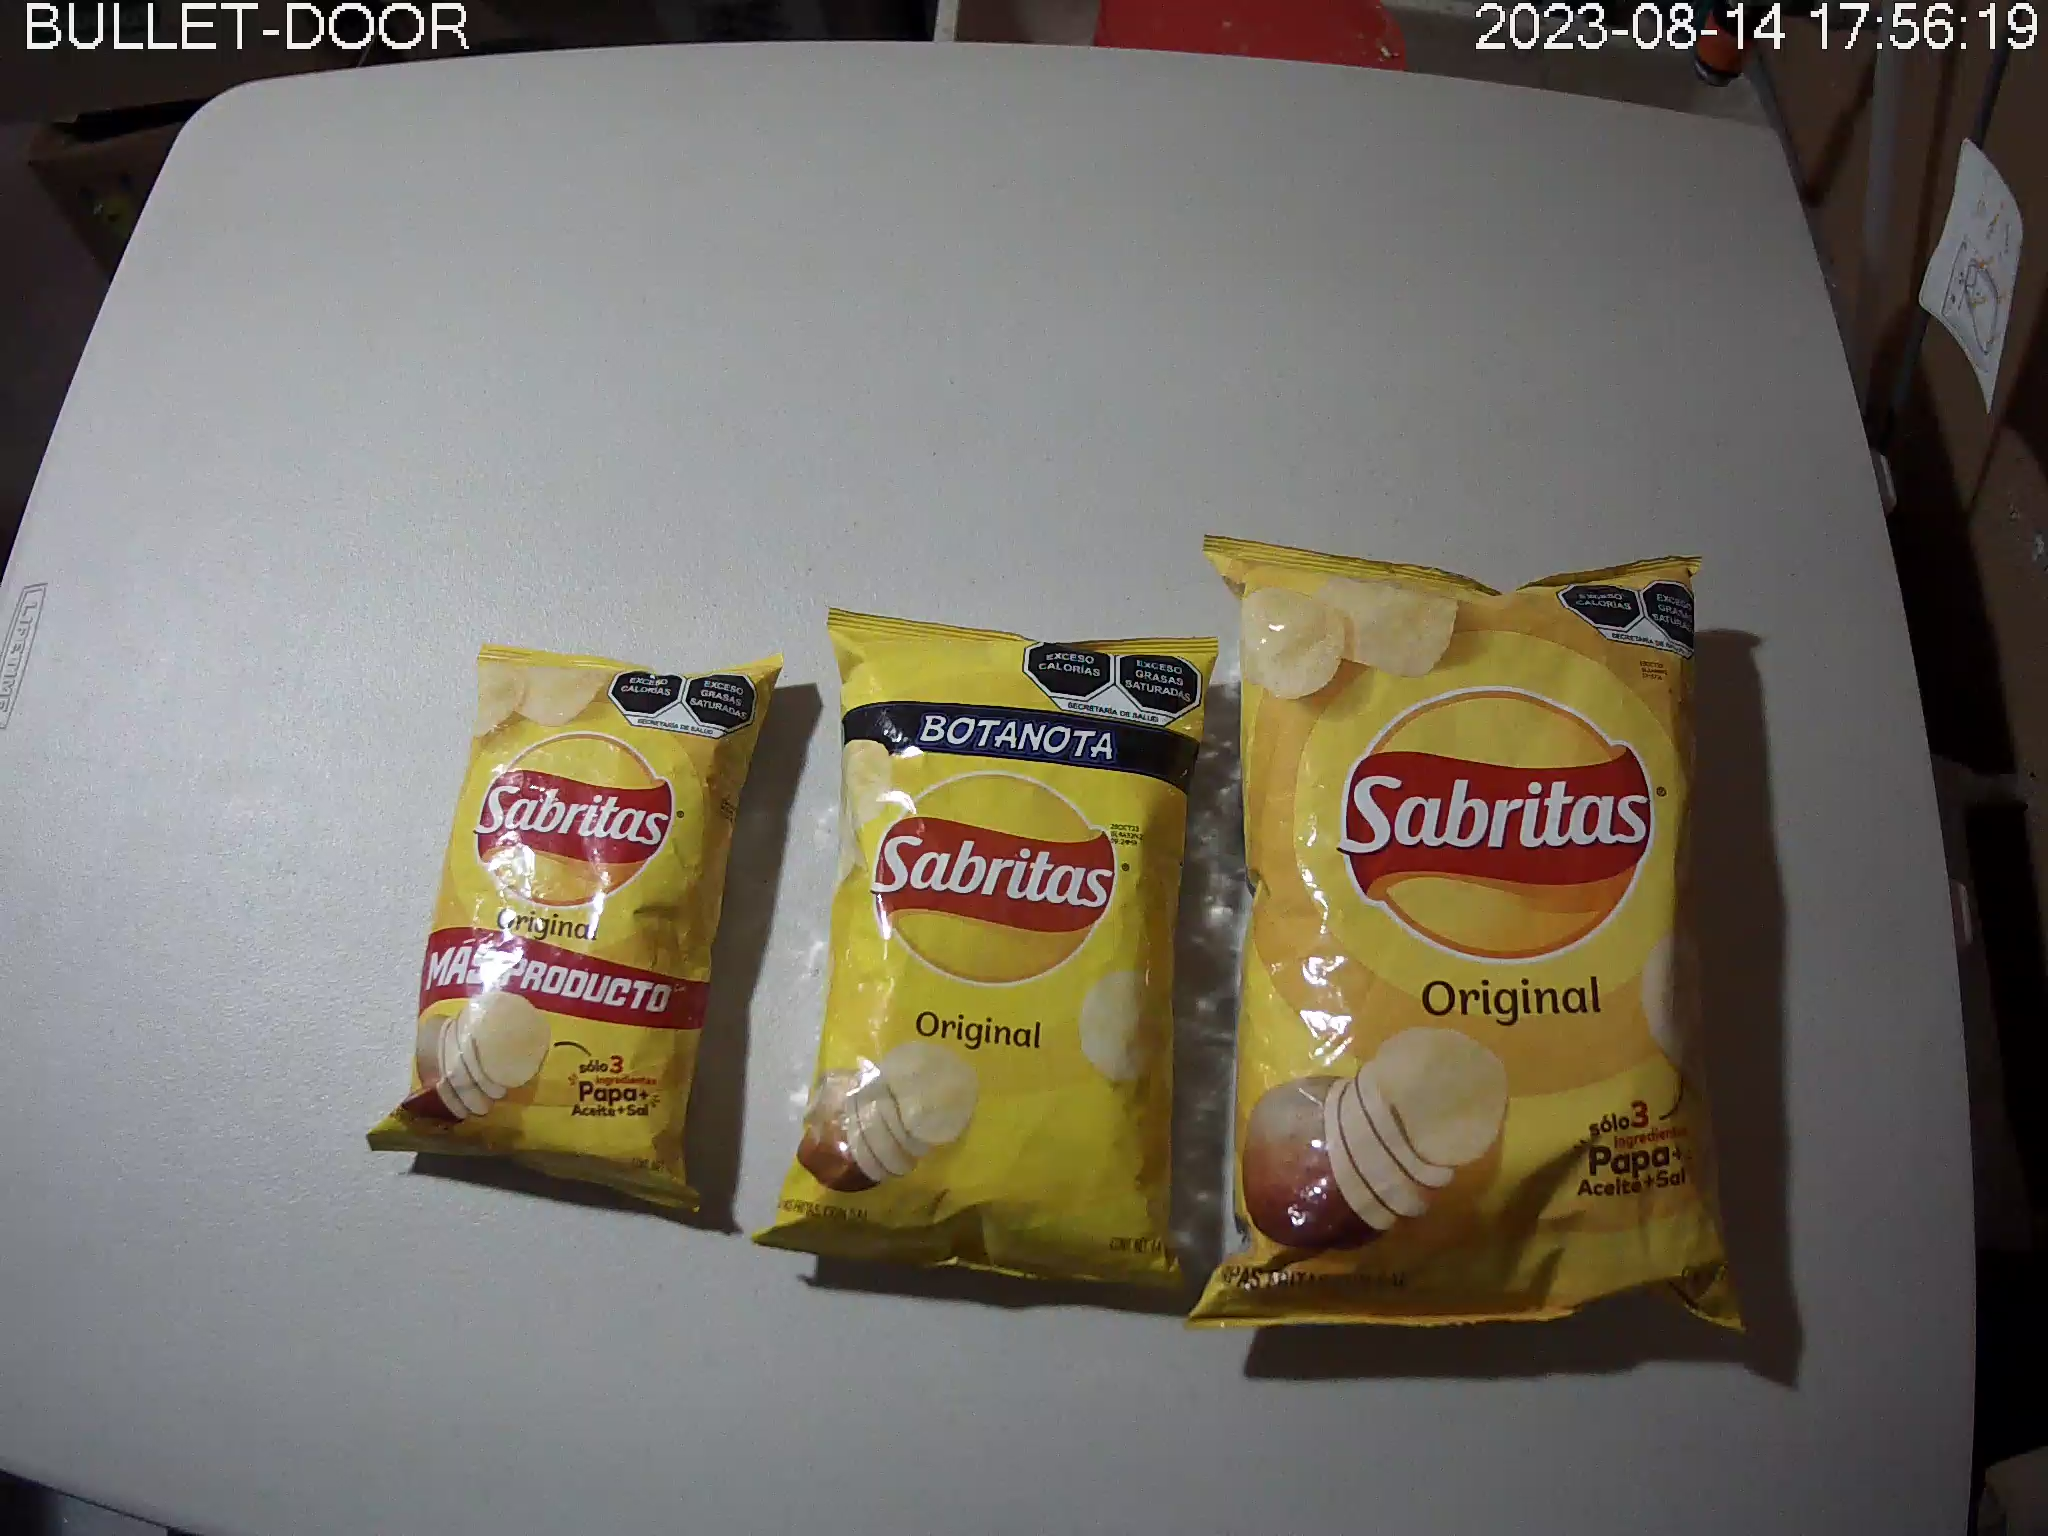Sabritas_160_F: (1184, 532, 1751, 1339)
Sabritas_45_F: (364, 647, 784, 1218)
Sabritas_64_F: (753, 603, 1221, 1296)
